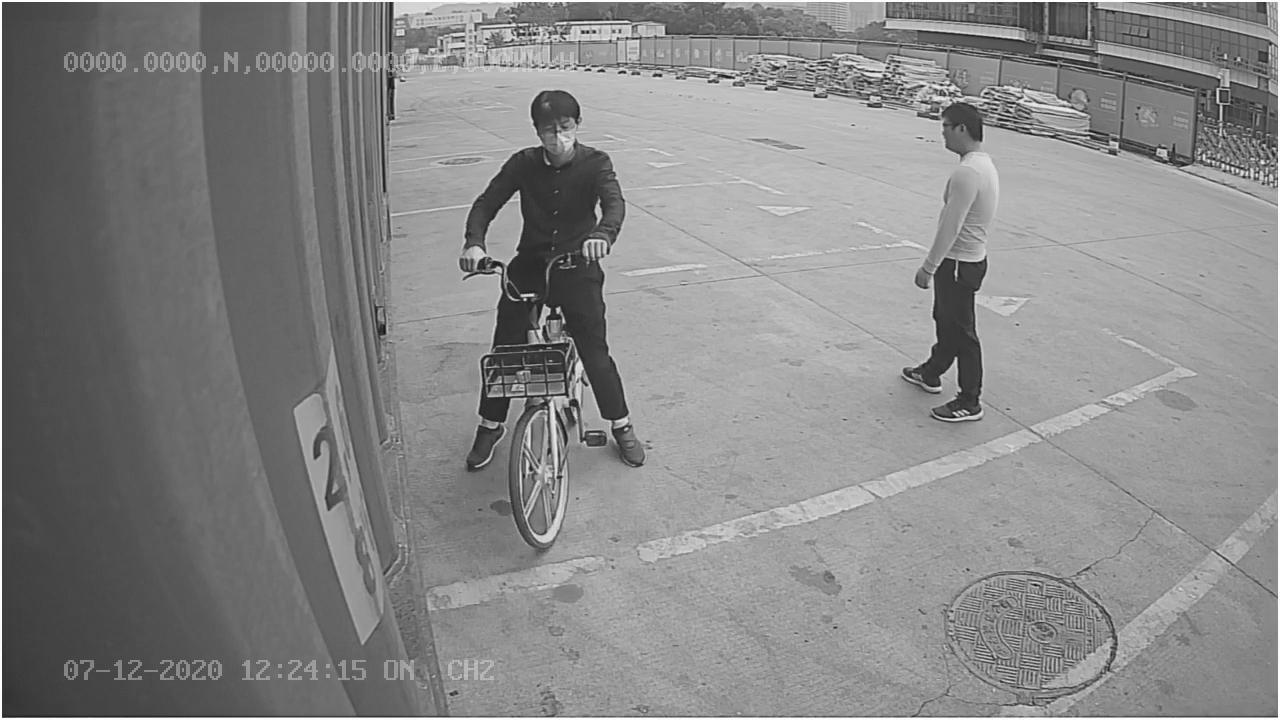person: (896, 99, 1003, 428)
